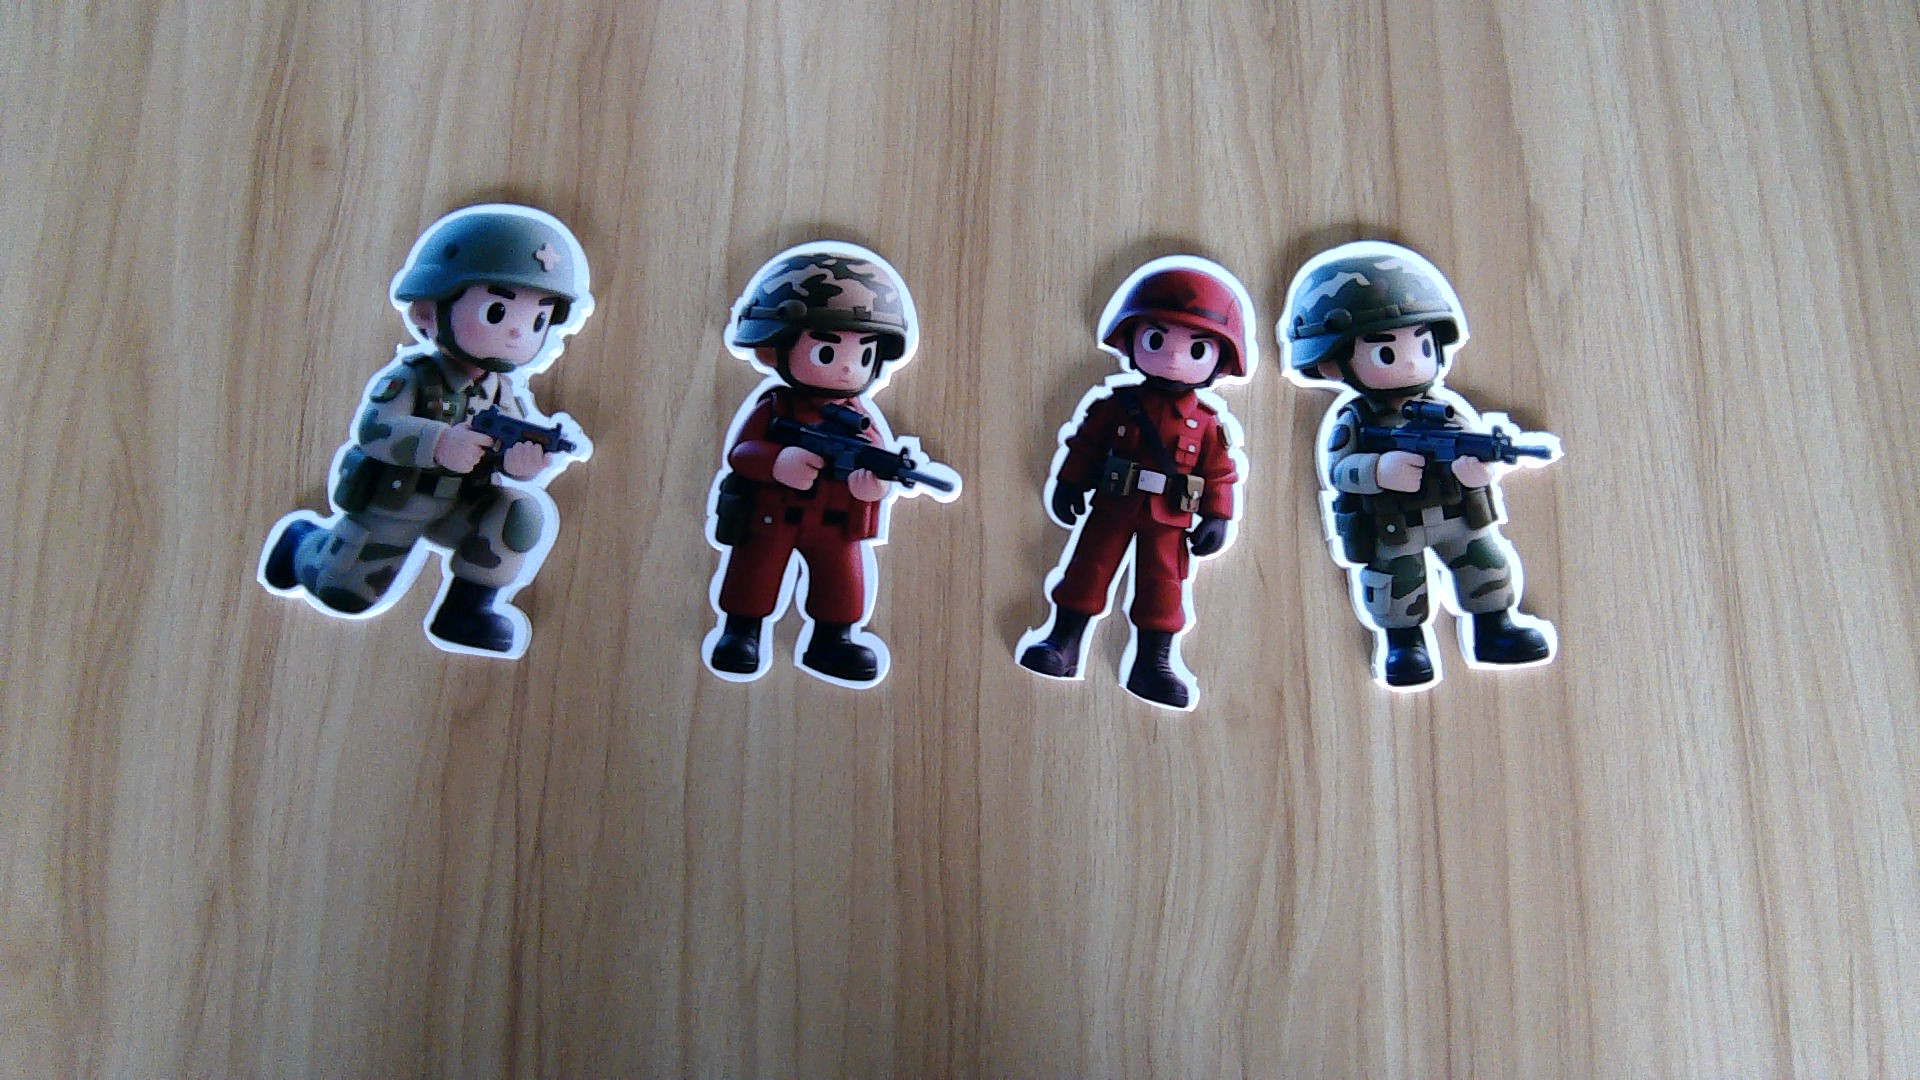友军: (245, 367, 603, 669), (1309, 402, 1575, 694)
敌人1: (698, 400, 963, 694), (1013, 386, 1250, 711)
